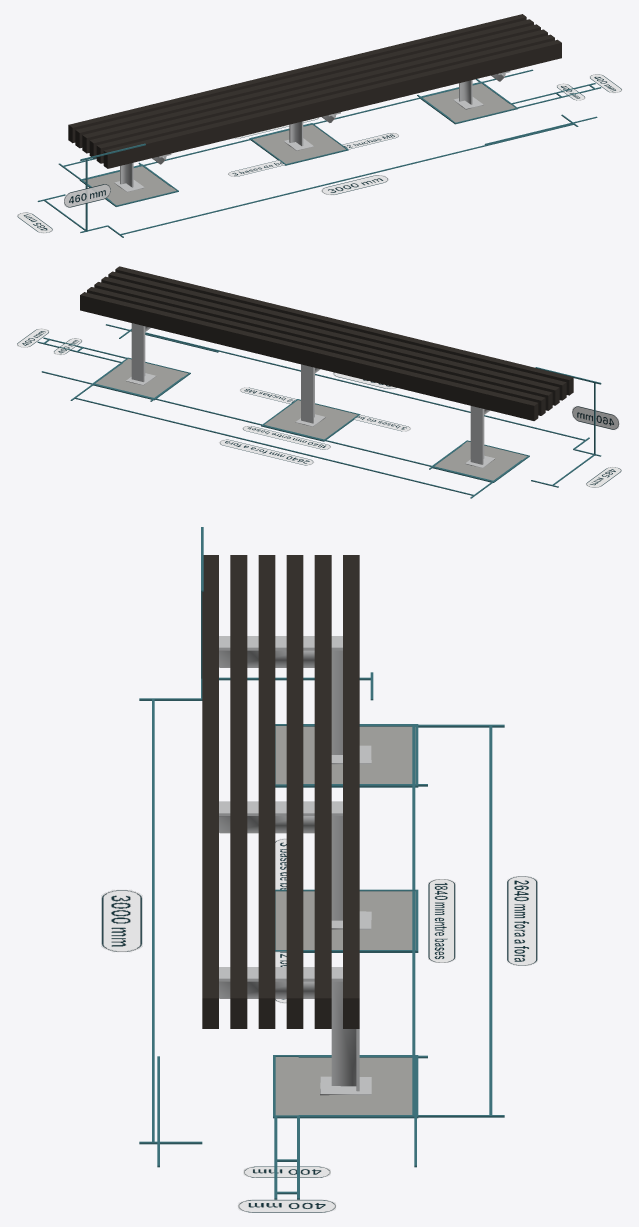
File: banco-14a.glb
3 views of the same model, one above another, from view 1: azimuth 30°, elevation 25°; view 2: azimuth 150°, elevation 25°; view 3: azimuth 270°, elevation 25° (orthographic). The views are drawn at different scales.
Parts seen in each view (by area): view 1: Geo0, FxGeo, Geo1, FL, CL, FxFr, FT4, CHn, CWn, CDn; view 2: Geo0, FxGeo, Geo1, FL, CL, FxFr, FT4, FT1, CHn, FT0, CDn; view 3: Geo0, FxGeo, Geo1, FL, FxFr, FT1, CWn, CL, FT0, FT3, FT2.
Part boxes in pixels (x1,y1,x2,y2): Geo0: (68,14,561,168); FxGeo: (83,83,515,205); Geo1: (114,71,510,192); FL: (58,69,601,201); CL: (37,114,578,237); FxFr: (79,81,518,206); FT4: (228,133,398,176); CHn: (64,184,110,207); CWn: (321,175,388,194); CDn: (17,212,52,233); Geo0: (80,266,573,420); FxGeo: (95,358,527,480); Geo1: (126,323,495,468); FL: (37,324,521,498); CL: (119,329,601,487); FxFr: (91,357,529,482); FT4: (240,387,410,431); FT1: (218,439,314,465); CHn: (572,406,619,429); FT0: (242,426,330,449); CDn: (586,467,621,487); Geo0: (202,555,359,1028); FxGeo: (275,726,415,1115); Geo1: (219,636,371,1095); FL: (157,724,504,1199); FxFr: (273,724,418,1118); FT1: (507,876,537,965); CWn: (101,889,142,952); CL: (139,527,373,1144); FT0: (428,879,455,962); FT3: (237,1199,336,1212); FT2: (243,1166,330,1177).
Bounding box in the file's own units: 3.86 × 0.4639 × 1.25.
Materials: 13 (8 with a texture image).
